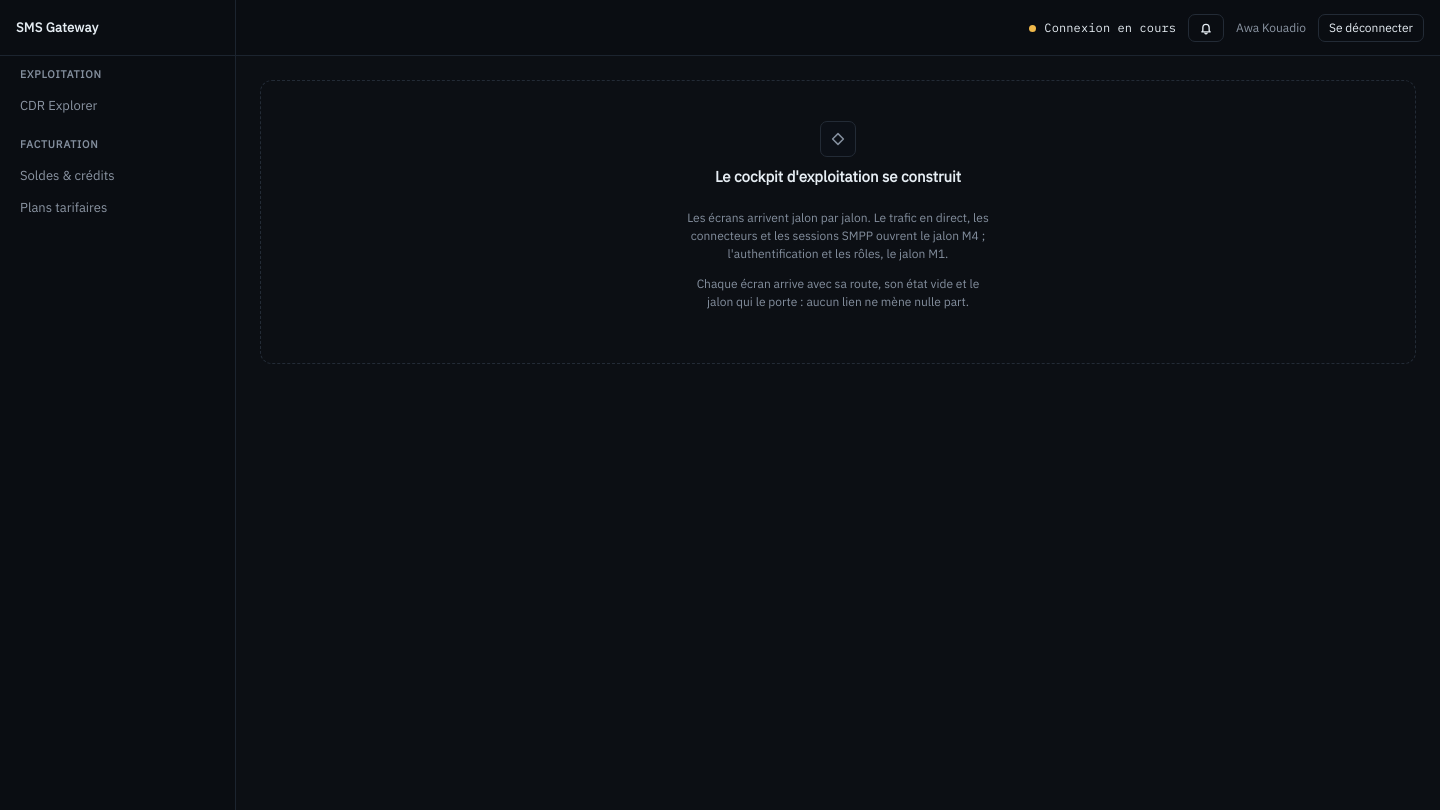
the notification center trigger › shows a bell rather than a word, and names it in a tooltip
expect the icon next to "Connexion en cours" is shown: met, box [1199,20,1213,34]
Step 1. Hover over the button named "Notifications, aucune non lue" → {"x": 1206, "y": 28}, box [1188,14,1224,42]
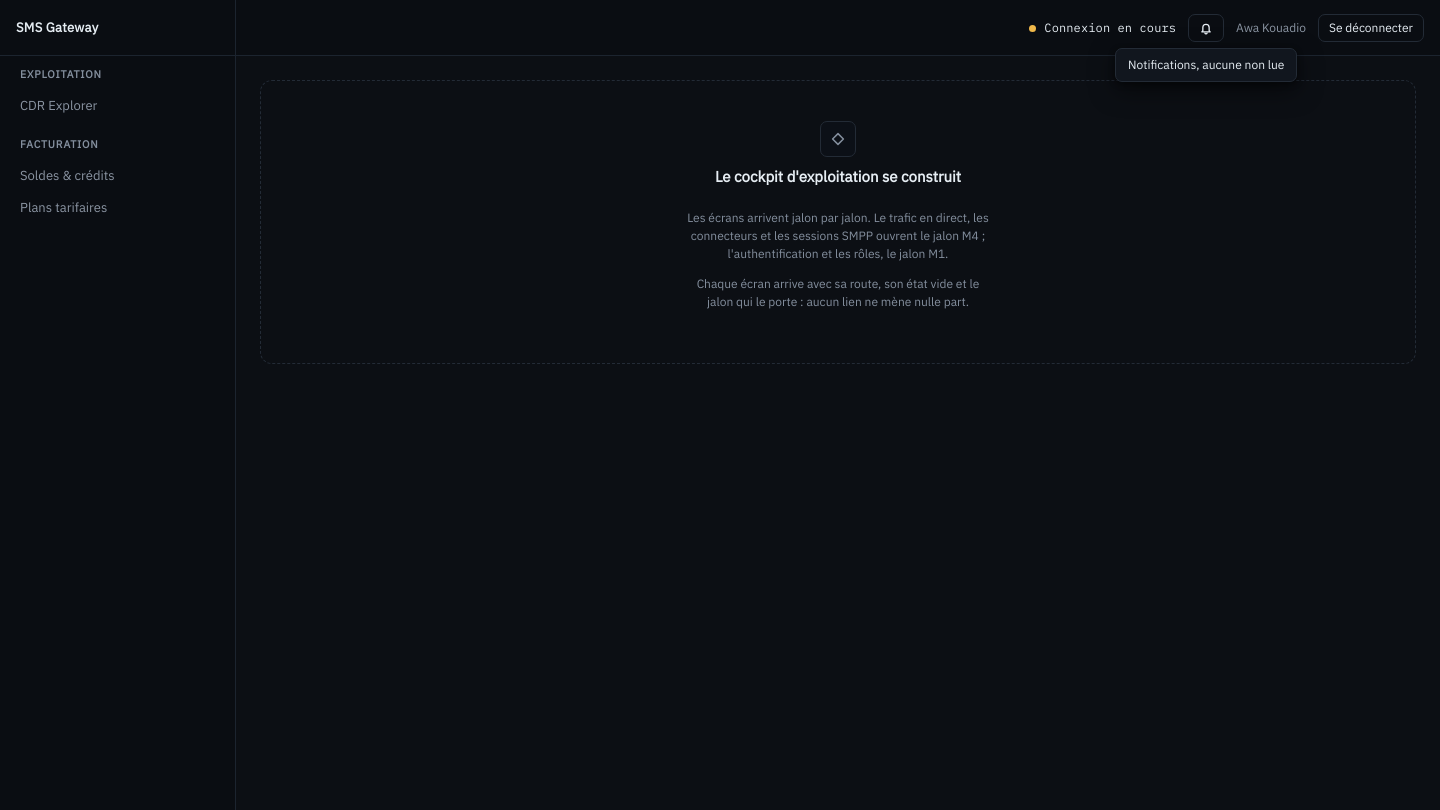
expect the text "Notifications, aucune non lue" is shown: met, box [1115,48,1298,82]
